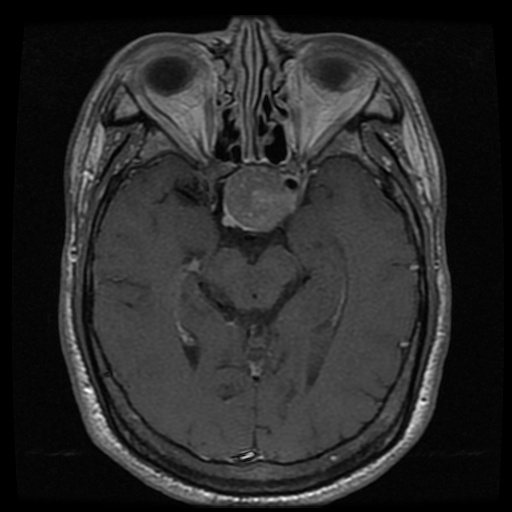pituitary: (226, 163, 293, 229)
